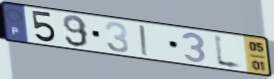3: (181, 31, 208, 64), (104, 21, 131, 53)
5: (30, 10, 57, 44)
9: (61, 14, 90, 49)
I: (138, 24, 151, 58)
L: (212, 32, 245, 72)
